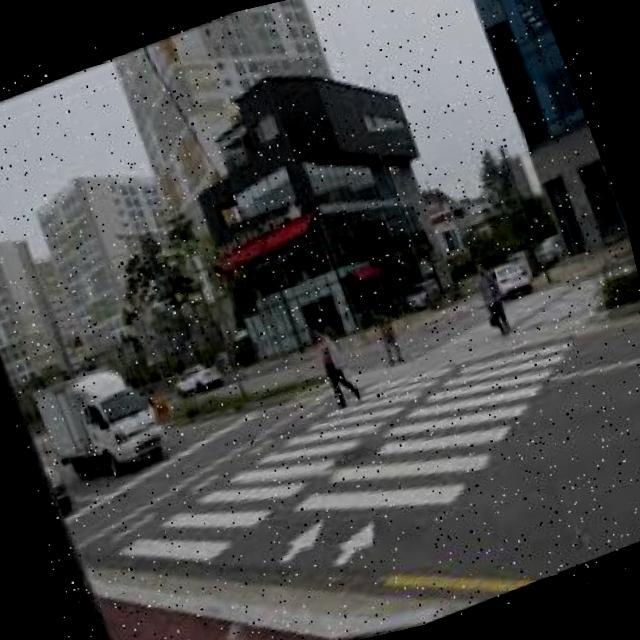Person: (302, 310, 366, 410), (468, 251, 515, 340), (366, 302, 406, 367)
